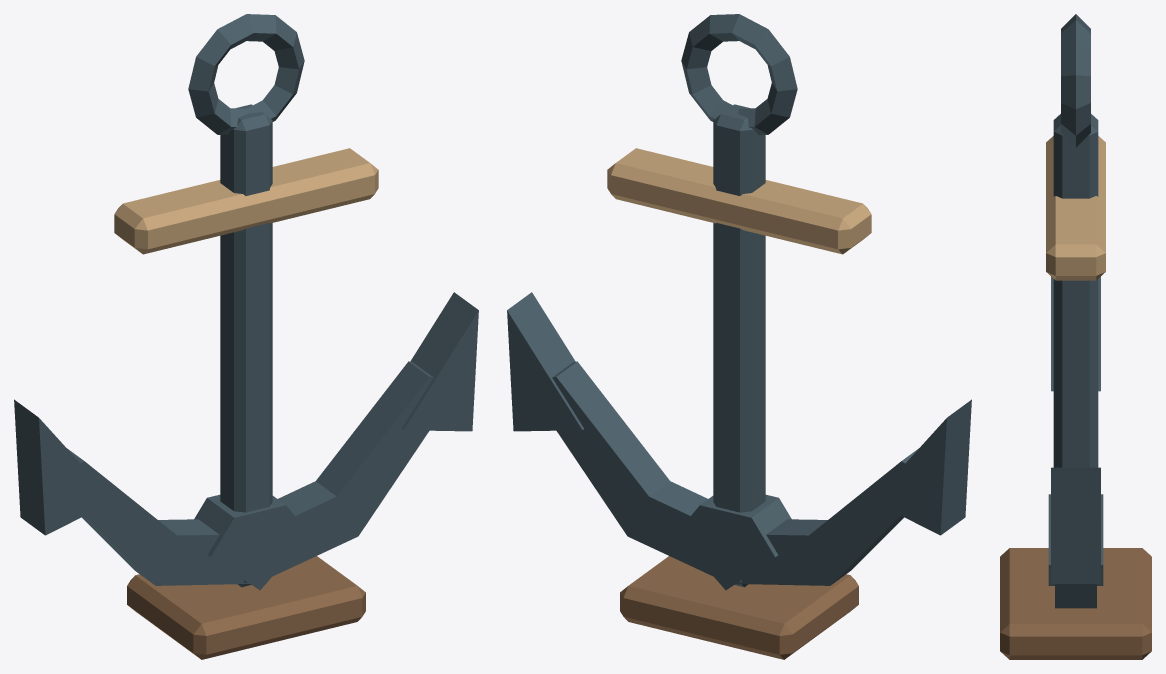
The model's file is 09_Harbor_Anchor.glb.
The picture shows the model from 3 angles, left to right: view 1: azimuth 30°, elevation 25°; view 2: azimuth 150°, elevation 25°; view 3: azimuth 270°, elevation 25°; orthographic projection.
Visible parts, largest first — view 1: 09_Harbor_Anchor__Body; view 2: 09_Harbor_Anchor__Body; view 3: 09_Harbor_Anchor__Body.
Part boxes in pixels (left/top/right/bottom): 09_Harbor_Anchor__Body: left=14, top=14, right=478, bottom=659; 09_Harbor_Anchor__Body: left=507, top=14, right=971, bottom=659; 09_Harbor_Anchor__Body: left=1000, top=14, right=1151, bottom=659.
Bounding box in the file's own units: 2.04 × 2.67 × 0.61.
1 material, 1 textured.
